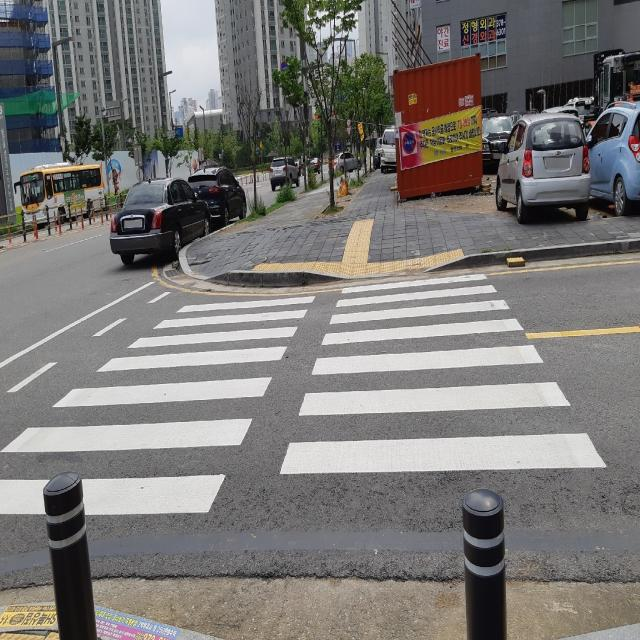횡단보도: (0, 268, 610, 520)
